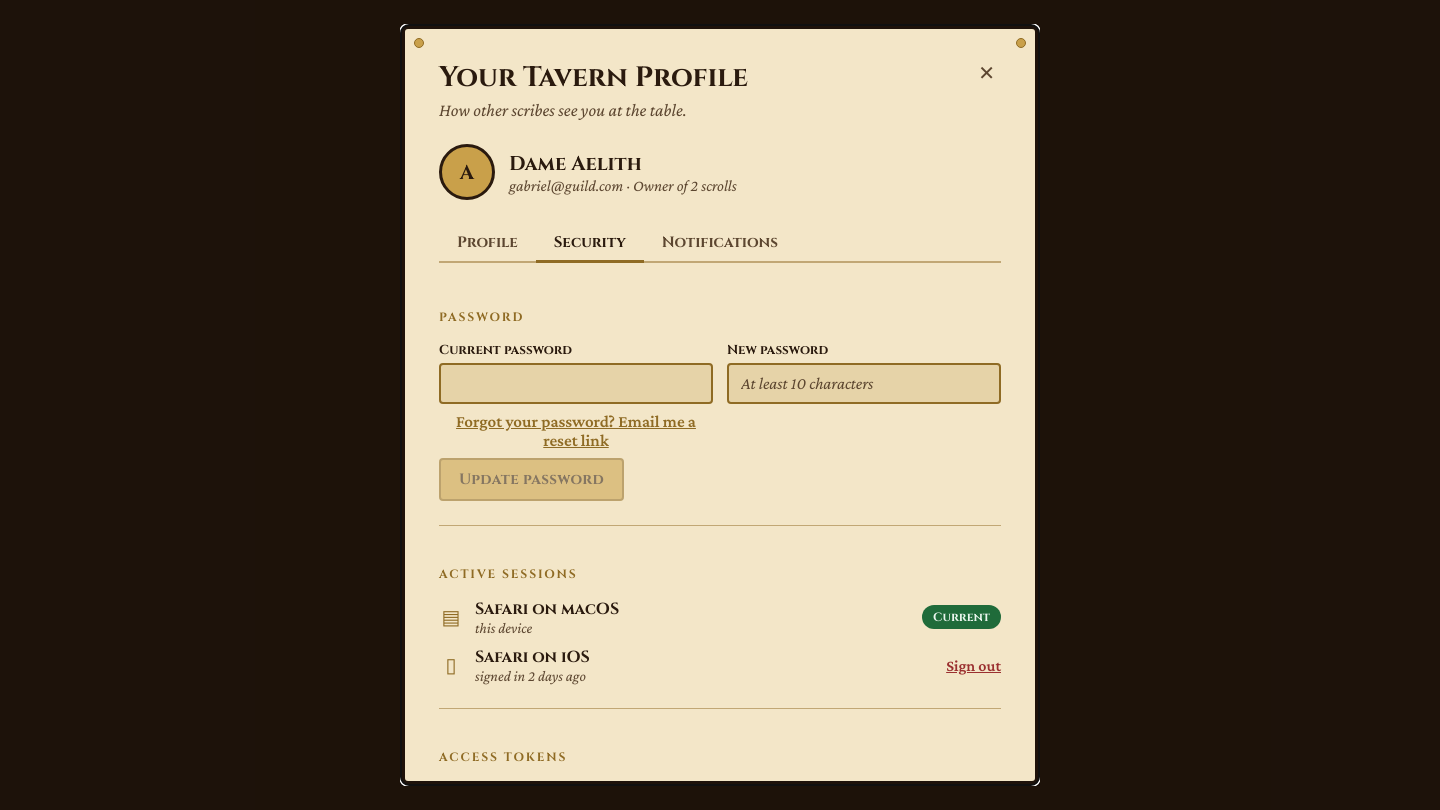
ProfileModalComponent › security › changes the password, says other devices were signed out, and clears the fields
Type "old password" into the password field named "cur" at (576, 384), box [439,363,713,404]
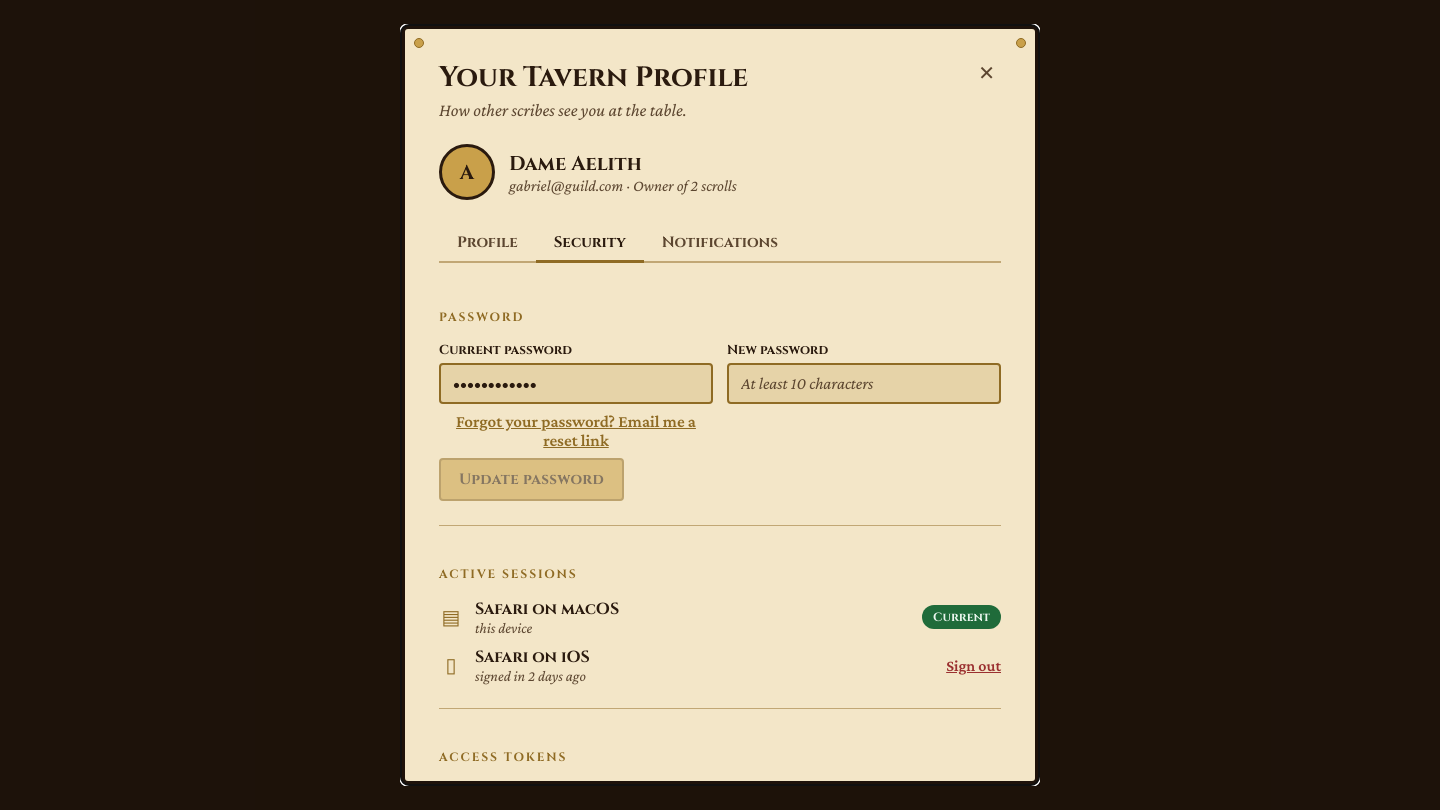
Type "a brand new passphrase" into the password field named "new" at (864, 384), box [727,363,1001,404]
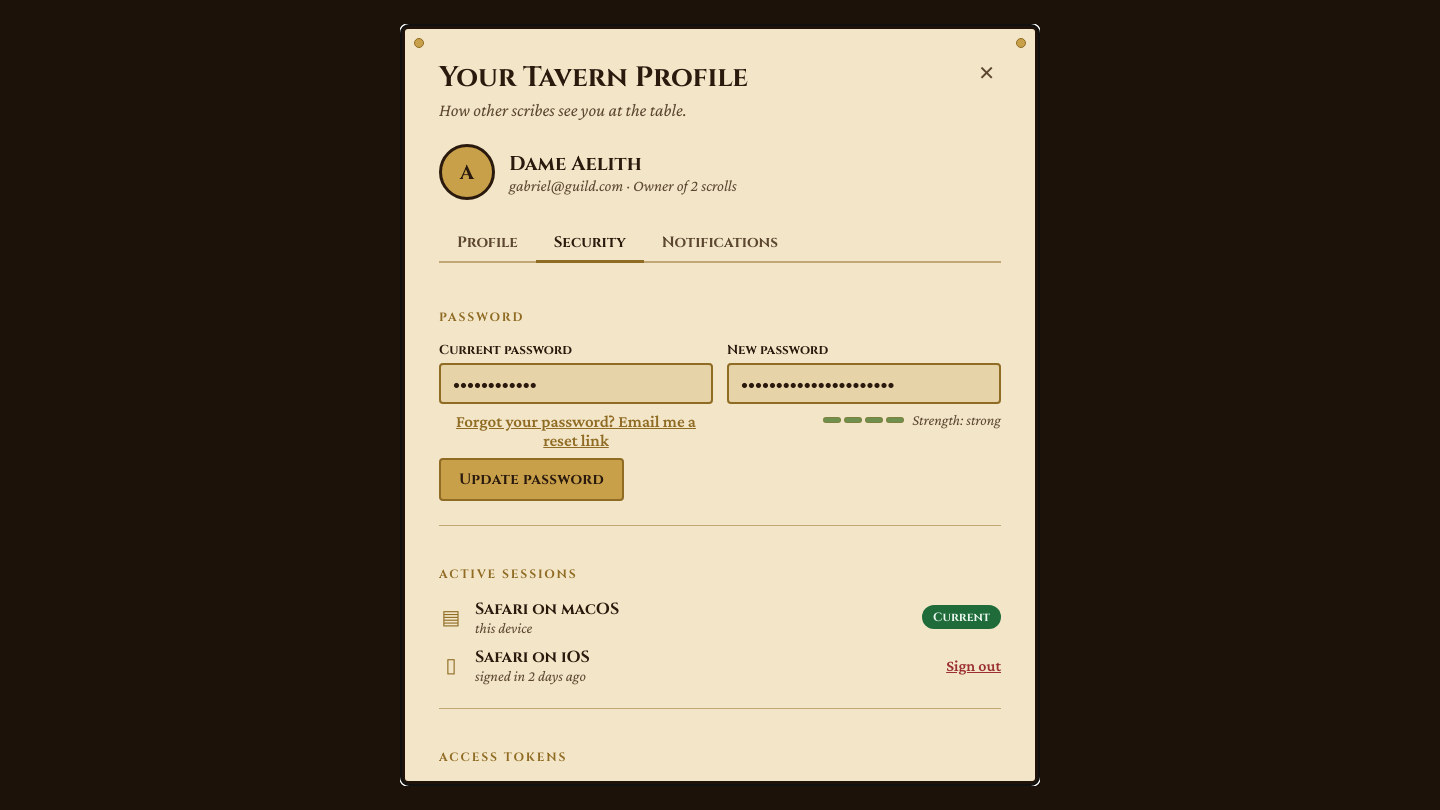
Submit the form, box [439,341,1001,501]
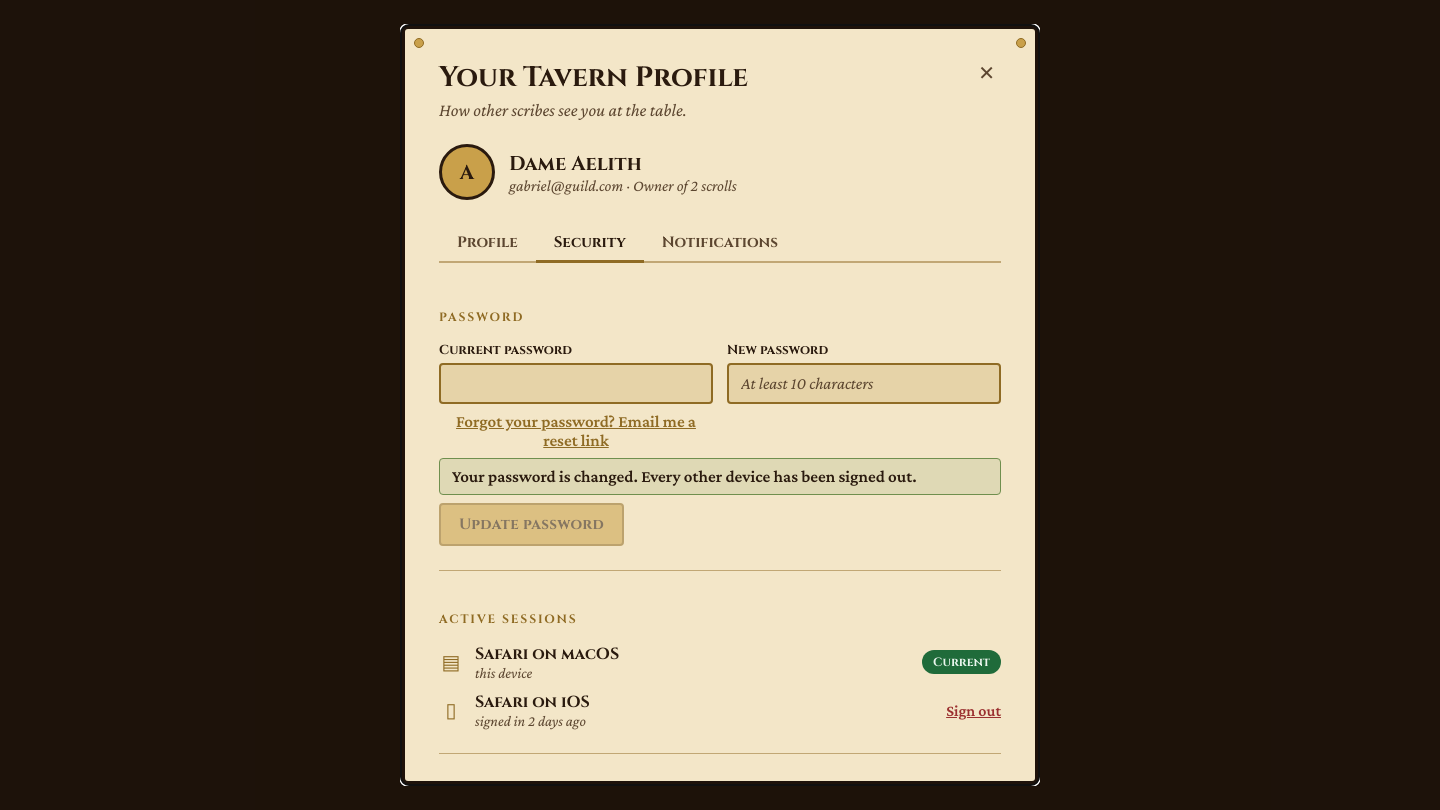
Expected: the message with class "notice" shows "Every other device has been signed out", [452,467,917,486]
